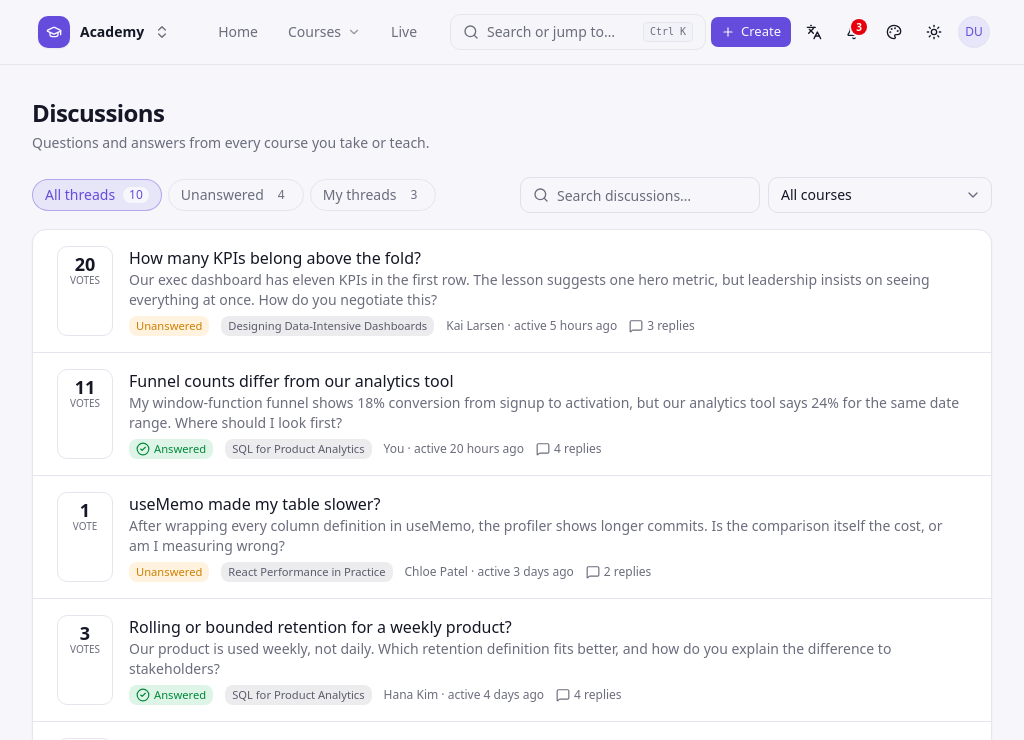
it: Academy workspace › filters discussions and opens a thread
Expected: the link "How many KPIs belong above the fold?" is shown, [129,247,421,269]
Click the button "My threads 3".
click(373, 195)  # box [310,179,436,211]
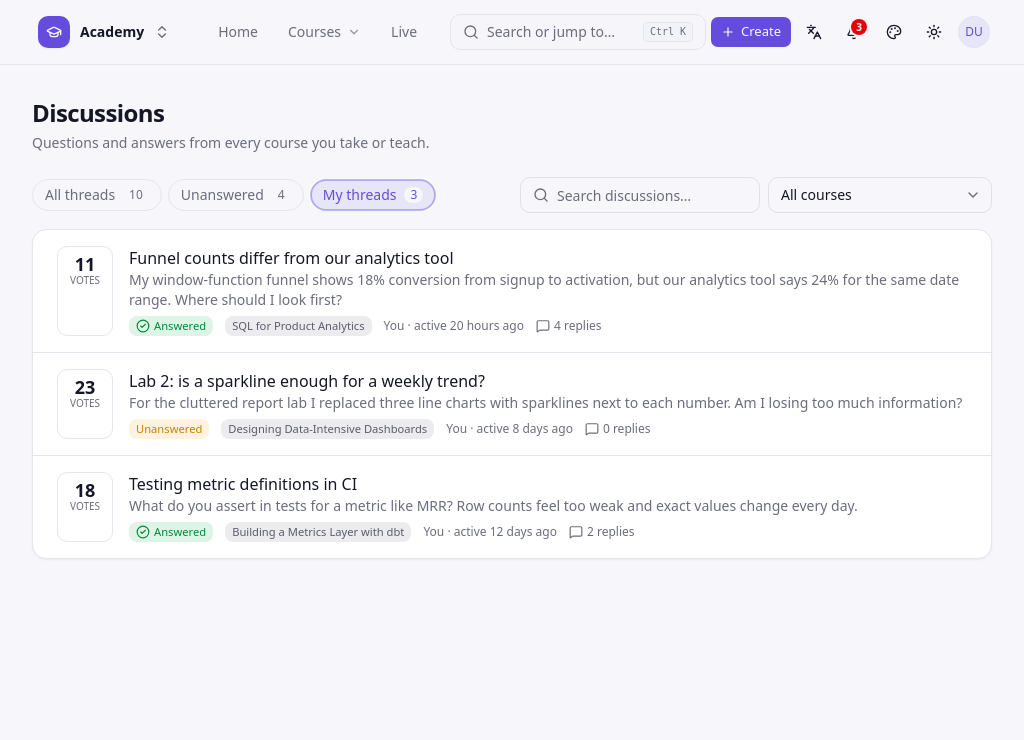
Expected: the link "How many KPIs belong above the fold?" is gone
Click the link "Funnel counts differ from our analytics tool".
click(291, 258)  # box [129,247,454,269]
(page scrolled)
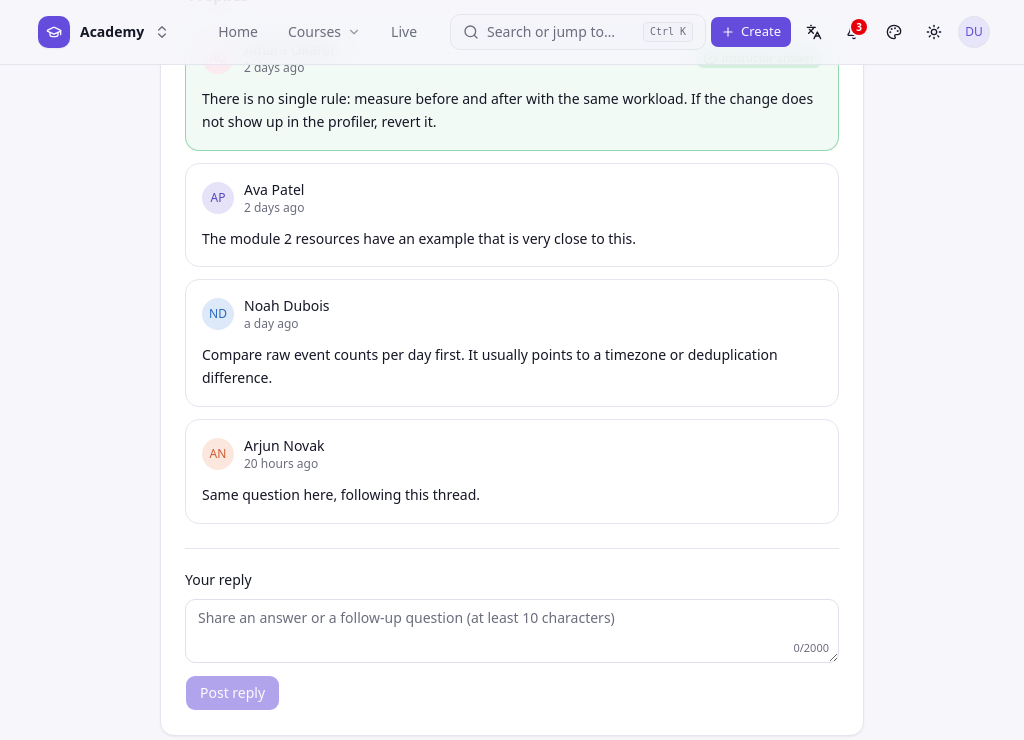
Expected: the text box labelled "Your reply" is shown, [185,598,839,662]
